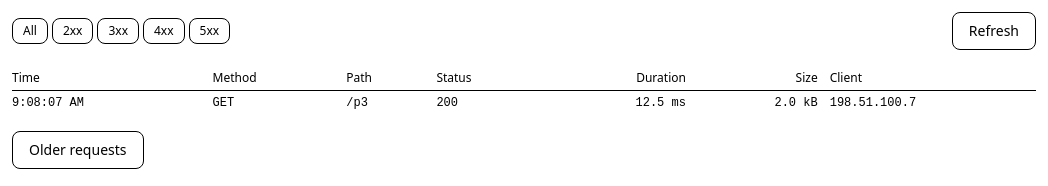
RecentRequests › appends older pages, and stops refreshing while they are shown
Click the button "Older requests" at (78, 150), box [12, 131, 144, 169]
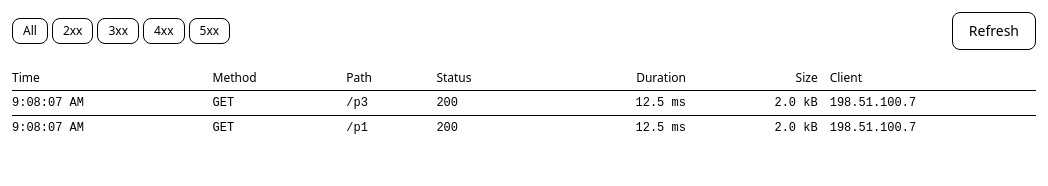
Check: the button "Older requests" is gone
